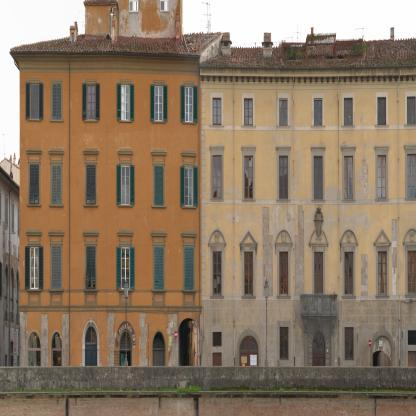Balcony: (300, 293, 338, 317)
Building Outline: (9, 0, 416, 392)
Cornice: (308, 229, 329, 247), (339, 229, 359, 247), (208, 229, 227, 247), (239, 230, 258, 247), (373, 229, 392, 246), (274, 230, 293, 247), (402, 229, 416, 245), (83, 146, 100, 155), (48, 146, 65, 155), (26, 146, 43, 155), (48, 228, 65, 236), (26, 228, 43, 236), (117, 147, 134, 155), (82, 229, 99, 237), (117, 229, 134, 237), (150, 148, 167, 156), (151, 229, 168, 237), (181, 149, 197, 157), (180, 230, 197, 237), (209, 146, 225, 152), (310, 146, 326, 152), (374, 146, 390, 152), (241, 146, 256, 152), (275, 146, 291, 151), (341, 147, 357, 152)
Deco: (314, 207, 324, 242)
Door: (178, 318, 200, 392), (373, 336, 392, 391), (240, 351, 259, 392), (27, 350, 41, 391), (313, 349, 326, 392), (85, 345, 97, 391), (314, 252, 323, 313), (153, 350, 165, 392), (120, 350, 132, 392), (51, 349, 62, 392), (213, 353, 222, 391), (408, 351, 416, 392)
Facade: (9, 1, 416, 392)
Floor: (202, 219, 416, 321), (202, 140, 416, 219), (20, 223, 202, 313), (20, 138, 202, 223), (20, 62, 202, 138)
Floor Slab: (202, 133, 416, 141), (202, 211, 416, 219), (202, 313, 416, 321), (20, 54, 202, 62), (20, 215, 202, 223), (20, 130, 202, 138), (20, 305, 202, 313)
Ground Floor: (202, 321, 416, 392), (20, 313, 202, 392)
Molding: (200, 74, 416, 83)
Roof: (200, 33, 416, 68), (10, 31, 223, 55)
Sill: (83, 288, 98, 293), (152, 204, 167, 209), (341, 125, 356, 130), (374, 125, 389, 130), (311, 125, 326, 130), (210, 125, 225, 130), (276, 199, 291, 204), (375, 199, 389, 204), (242, 199, 256, 204), (311, 199, 325, 204), (342, 199, 356, 204), (27, 288, 42, 292), (118, 288, 133, 292), (152, 288, 167, 292), (182, 289, 197, 293), (49, 288, 64, 292), (27, 204, 42, 208), (83, 204, 98, 208), (118, 204, 133, 208), (49, 204, 64, 208), (276, 126, 291, 130), (241, 126, 256, 130), (342, 295, 357, 299), (375, 295, 390, 299), (84, 119, 98, 123), (28, 119, 42, 123), (50, 119, 64, 123), (182, 121, 196, 125), (152, 120, 166, 124), (182, 205, 196, 209), (242, 296, 256, 300), (210, 295, 224, 299), (119, 119, 132, 123), (277, 296, 291, 299), (405, 295, 416, 298)
Top Floor: (202, 76, 416, 140), (86, 0, 181, 62)
Window: (407, 251, 416, 296), (345, 252, 354, 296), (378, 251, 387, 295), (407, 154, 416, 198), (30, 246, 39, 289), (52, 246, 61, 289), (87, 246, 96, 289), (244, 252, 253, 295), (314, 156, 323, 199), (344, 156, 353, 199), (279, 156, 288, 199), (244, 156, 253, 199), (185, 248, 194, 290), (121, 247, 130, 289), (155, 247, 164, 289), (213, 251, 221, 295), (213, 155, 221, 199), (30, 165, 39, 204), (52, 165, 61, 204), (121, 166, 130, 205), (87, 165, 96, 204), (378, 156, 386, 199), (280, 252, 288, 295), (52, 83, 61, 120), (30, 83, 39, 119), (121, 84, 130, 120), (155, 166, 163, 205), (185, 167, 193, 206), (280, 327, 289, 360), (345, 327, 354, 360), (239, 336, 258, 351), (87, 84, 95, 119), (155, 85, 163, 120), (185, 86, 193, 121), (344, 98, 353, 126), (279, 98, 288, 126), (244, 98, 253, 126), (27, 332, 41, 350), (407, 97, 416, 124), (153, 331, 165, 350), (378, 97, 386, 125), (314, 98, 322, 126), (213, 98, 221, 126), (85, 326, 97, 344), (313, 332, 325, 348), (51, 332, 62, 348), (120, 335, 130, 349), (213, 332, 222, 347), (408, 331, 416, 345), (130, 2, 138, 11), (161, 1, 169, 10), (72, 33, 74, 43)
